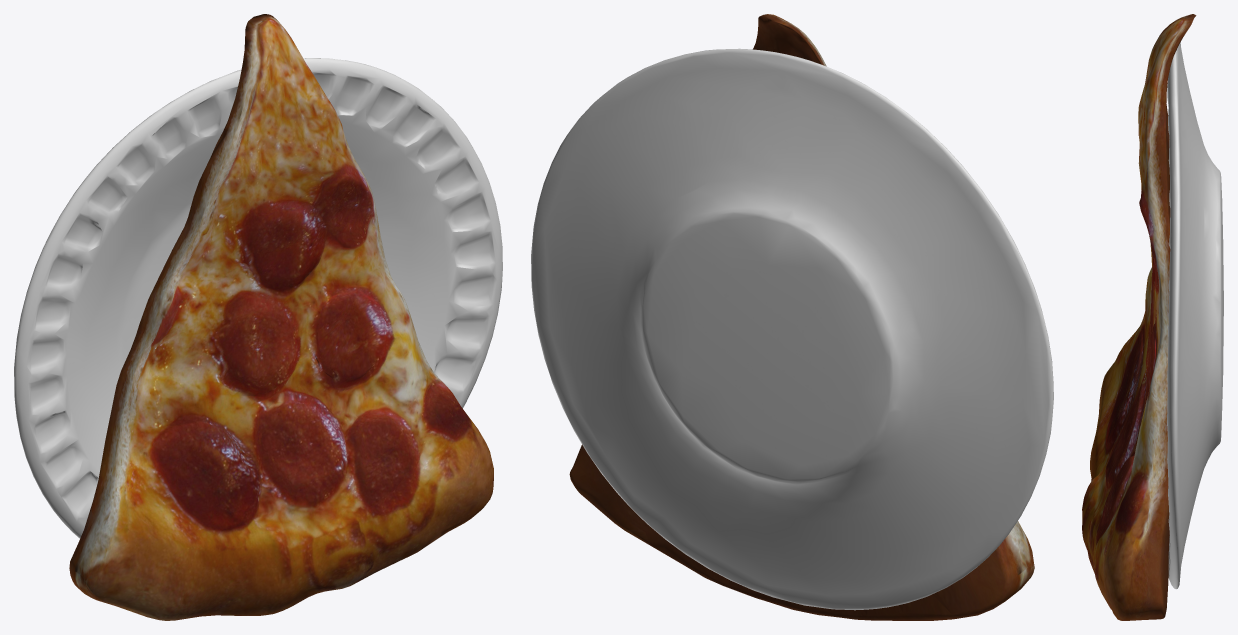
Rendered from pizzaSlice_low_poly.obj.
The picture shows the model from 3 angles, left to right: view 1: azimuth 30°, elevation 25°; view 2: azimuth 150°, elevation 25°; view 3: azimuth 270°, elevation 25°; orthographic projection. The views are drawn at different scales.
Parts seen in each view (by area): view 1: 13917_Pepperoni_v2_l2; view 2: 13917_Pepperoni_v2_l2; view 3: 13917_Pepperoni_v2_l2.
Part boxes in pixels (x1,y1,x2,y2): 13917_Pepperoni_v2_l2: (14,14,502,620); 13917_Pepperoni_v2_l2: (531,14,1053,620); 13917_Pepperoni_v2_l2: (1082,14,1223,620).
Size of the model in its own units: 13 by 14.36 by 3.27.
Materials: 2 (2 with a texture image).
